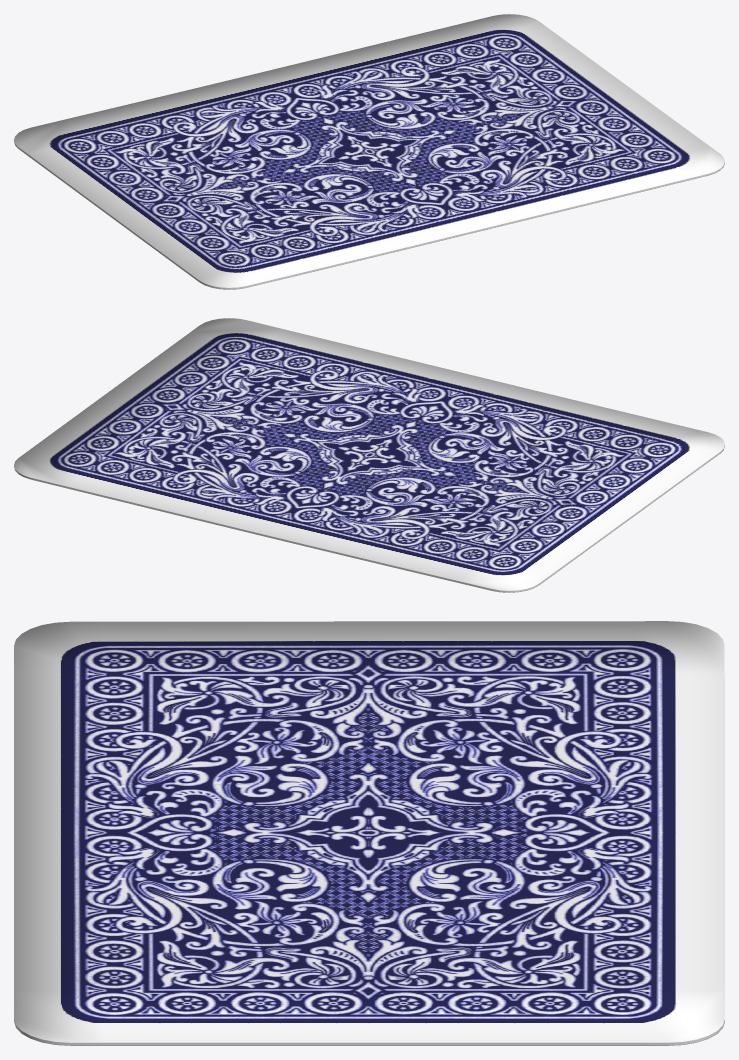
Rendered from card.fbx.
The picture shows the model from 3 angles, top to bottom: view 1: azimuth 30°, elevation 25°; view 2: azimuth 150°, elevation 25°; view 3: azimuth 270°, elevation 25°; orthographic projection. The views are drawn at different scales.
Parts seen in each view (by area): view 1: Cube; view 2: Cube; view 3: Cube.
Boxes of the visible parts, box(x1,y1,x2,y2) form: Cube: box(14, 14, 724, 289); Cube: box(14, 318, 724, 592); Cube: box(14, 621, 724, 1045).
Size of the model in its own units: 8.8 by 0.0542 by 6.3.
